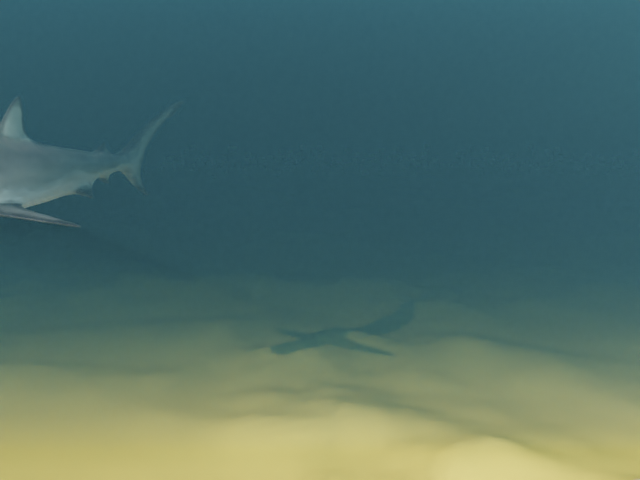Carribean Shark.001: (0, 96, 184, 227)
